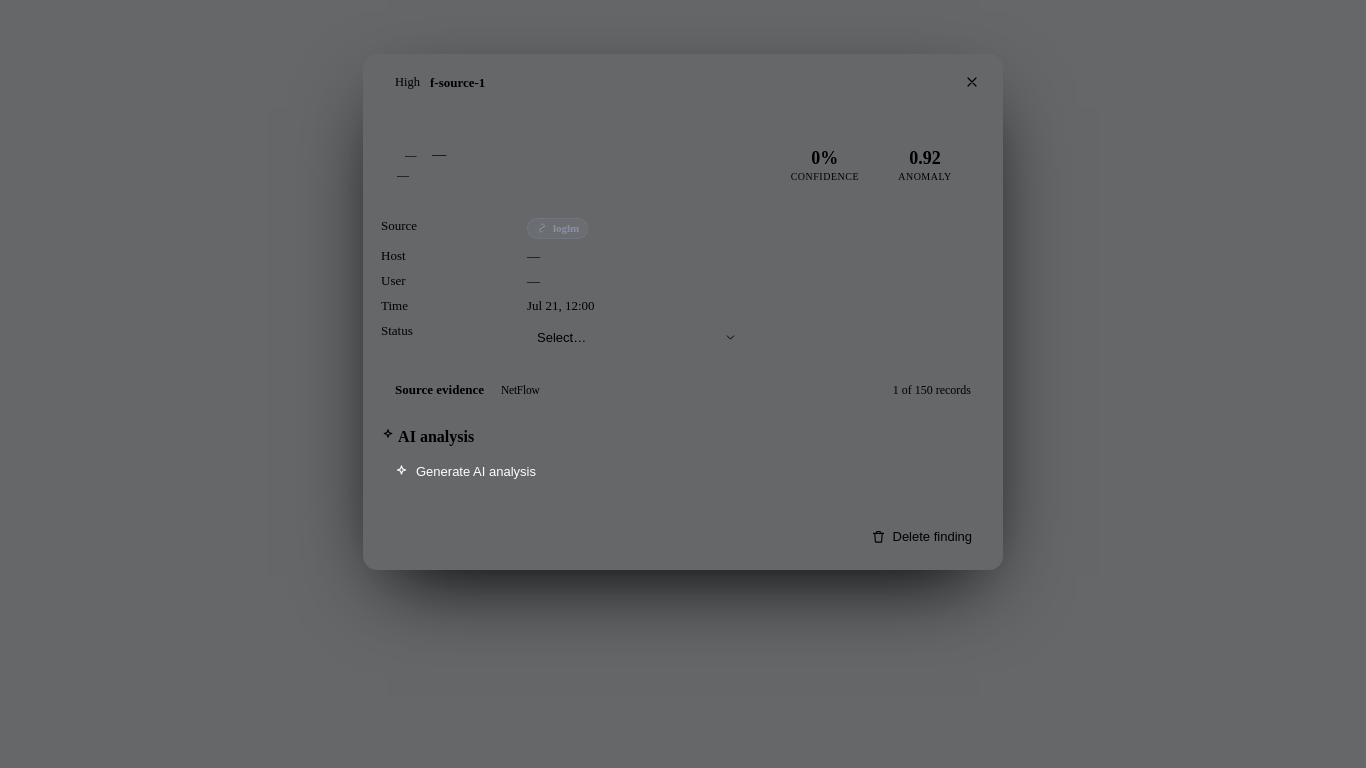
Scenario: FindingPopup source evidence › renders NetFlow evidence collapsed with an accessible scroll table
The image size is (1366, 768).
Check: the text "1 of 150 records" is shown, box [893,383,971,398]
Step 1. Click the heading "Source evidence NetFlow 1 of 150 records" → point(439, 390), box [395,382,971,397]
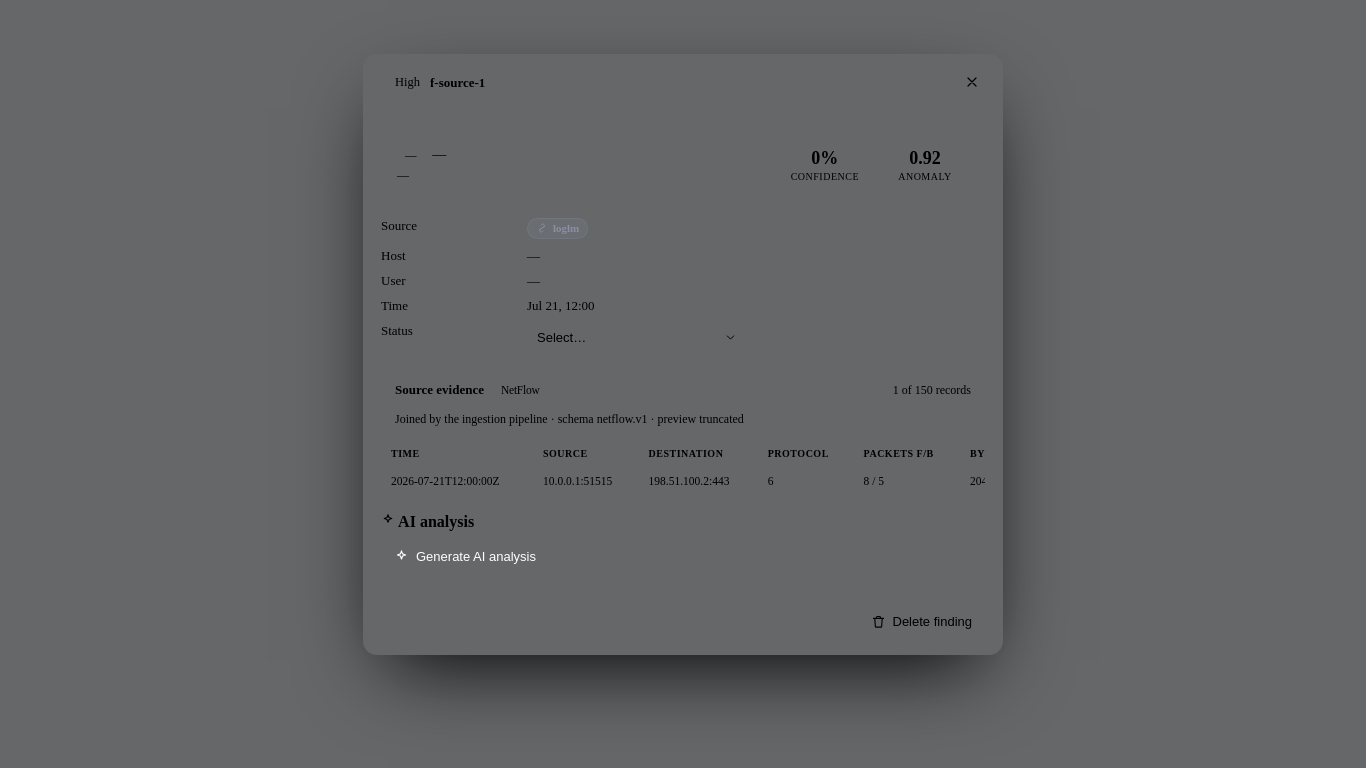
Check: the column heading "Source" is shown, box [533,440,639,467]
Check: the text "10.0.0.1:51515" is shown, box [533,467,639,495]
Check: the text "198.51.100.2:443" is shown, box [639,467,758,495]
